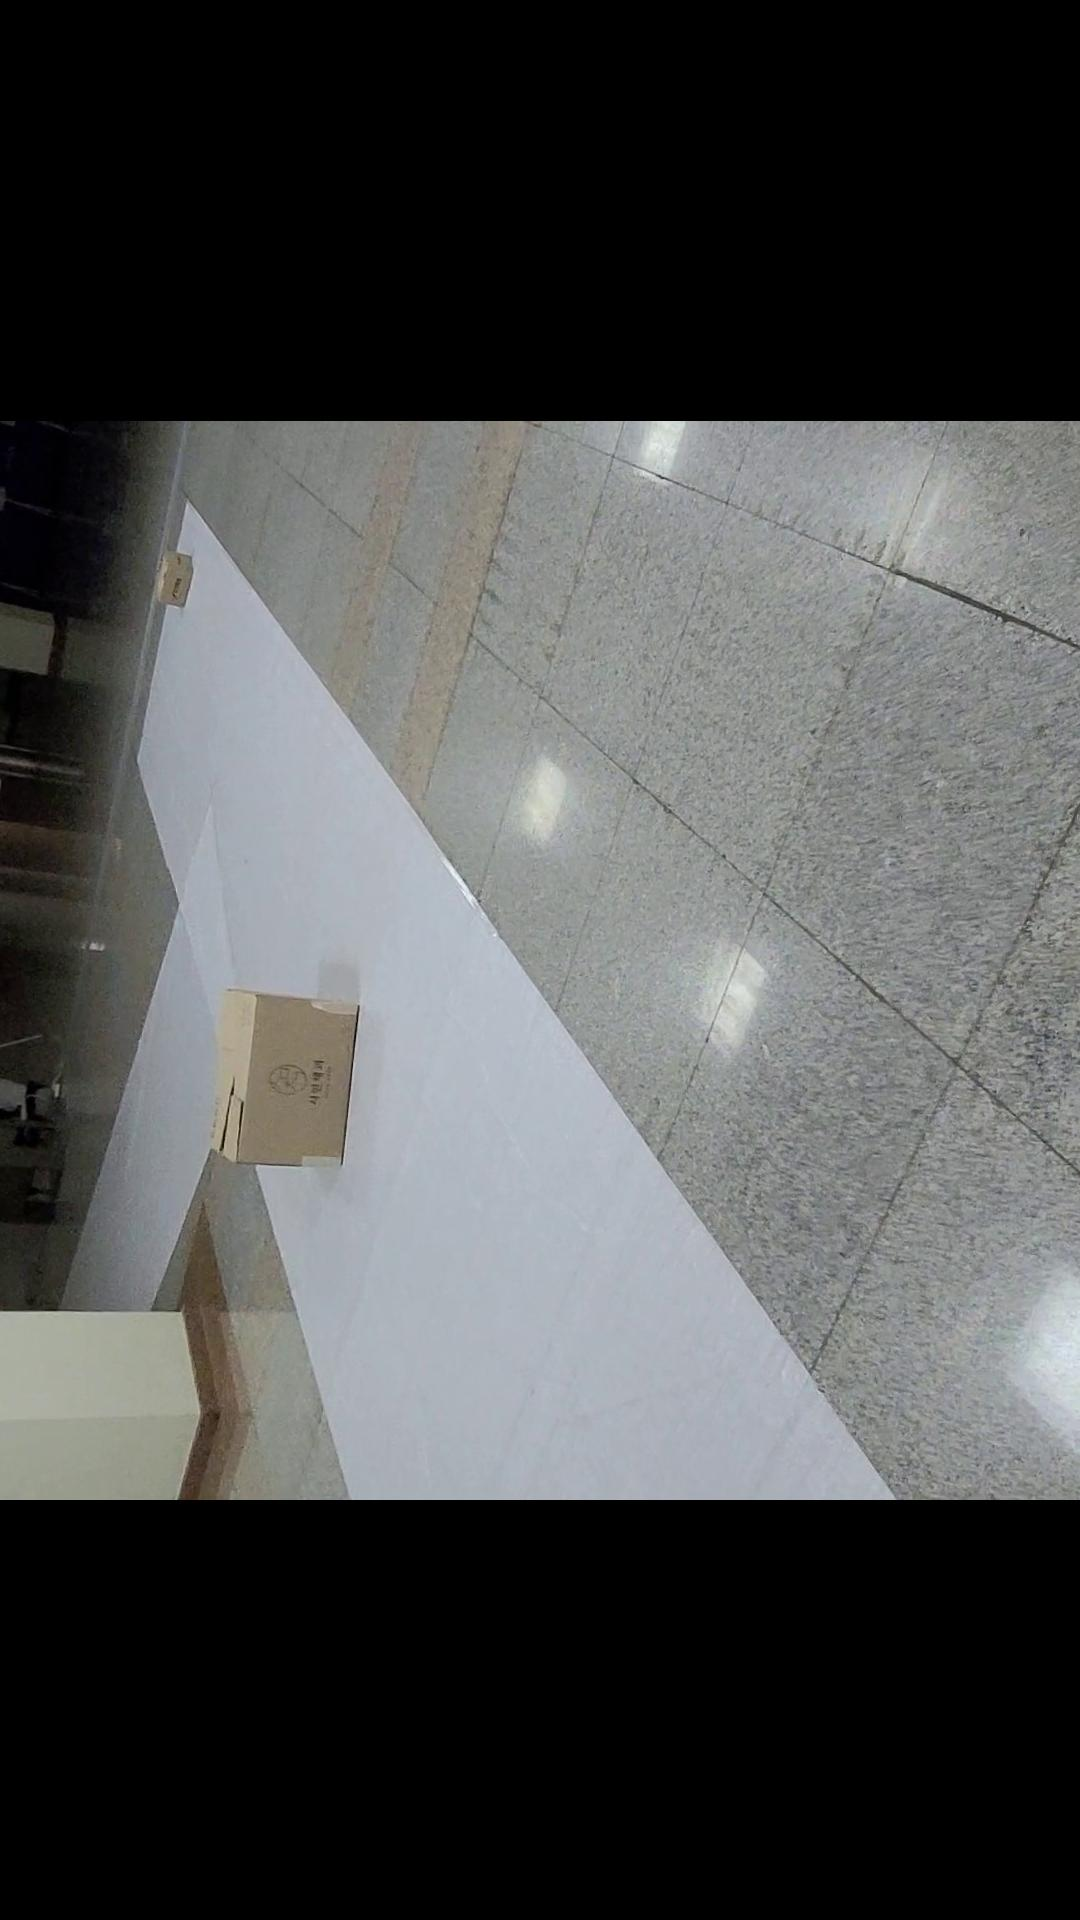Box: (190, 930, 386, 1197), (125, 516, 225, 637)
